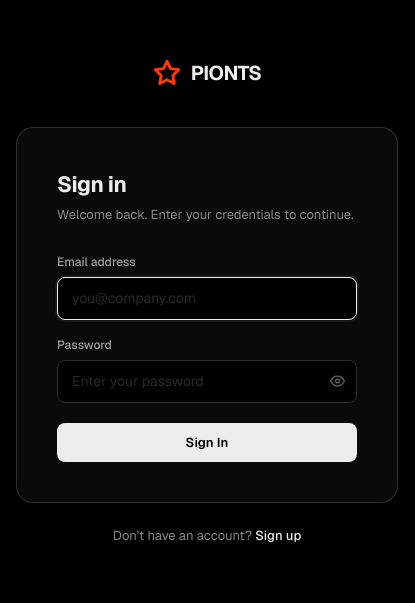
Login › shows error message on login failure
The width and height of the screenshot is (415, 603).
Type "a@b.com" into the field labelled "Email address". click: (207, 298)
box: left=57, top=277, right=357, bottom=320
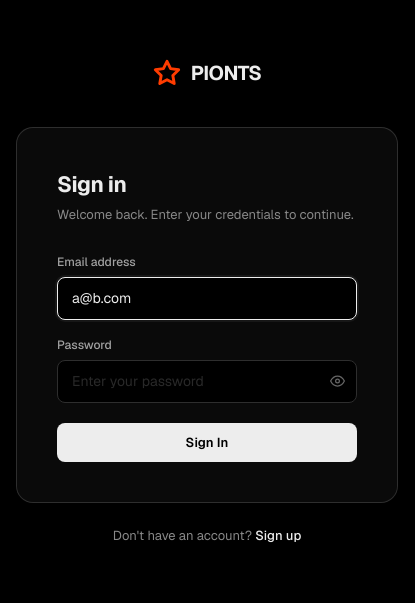
Type "wrong" into the password field labelled "Password". click: (207, 381)
box: left=57, top=360, right=357, bottom=403
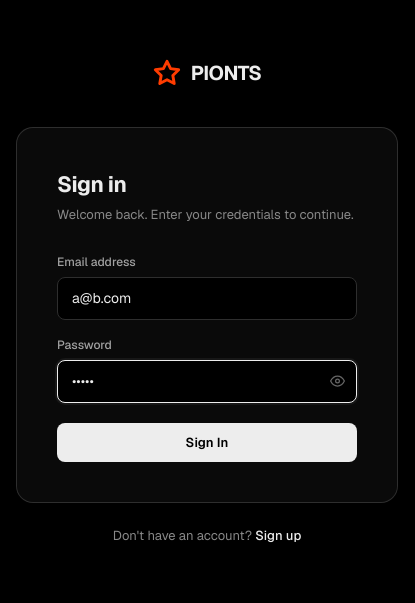
Click the button "Sign In". click: (207, 443)
box: left=57, top=423, right=357, bottom=462
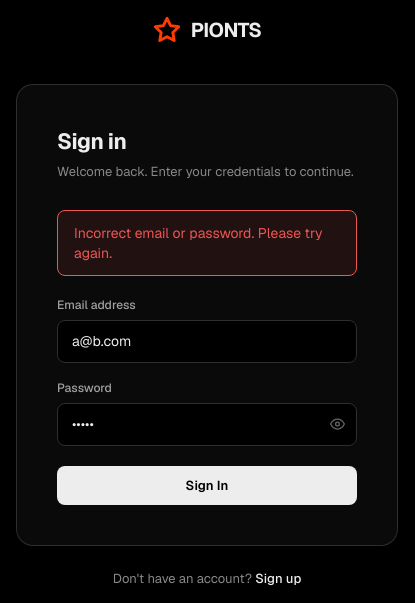
Check: the text "Incorrect email or password. Please try again." is shown, box left=57, top=210, right=357, bottom=276
